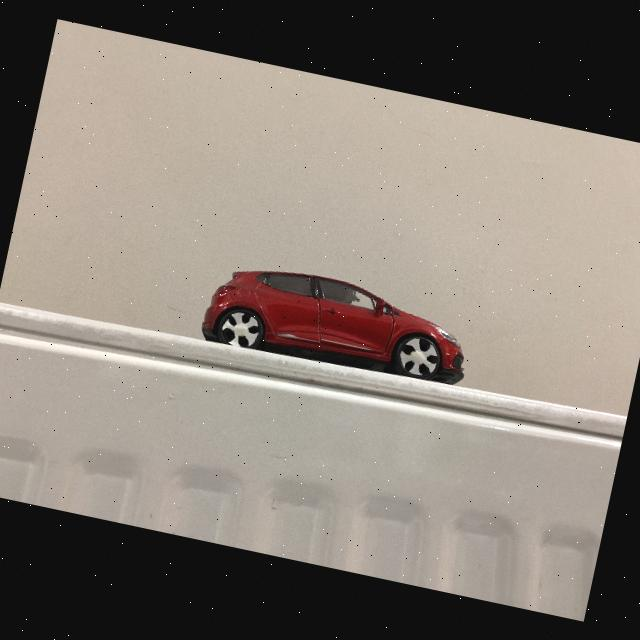Yanlis_Jant: (395, 335, 442, 380), (216, 308, 262, 351)
